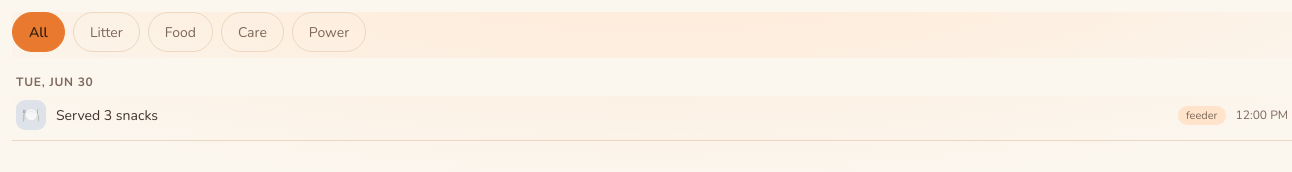
HistoryView › filter chip refetches with the device filter and resets the list
Expected: the text "Served 3 snacks" is shown, x1=56 y1=106 x2=158 y2=124
Click the button "Litter". click: (106, 32)
box: x1=73 y1=12 x2=140 y2=52
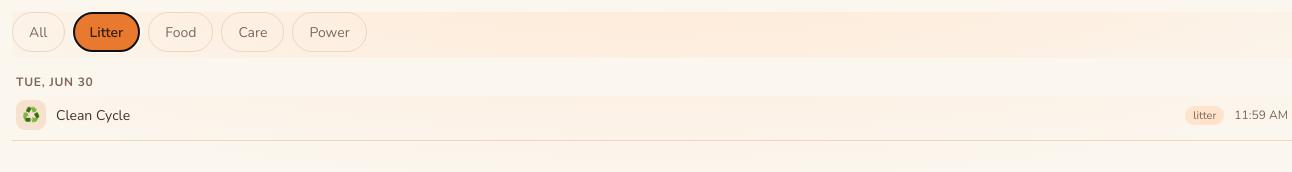
Result: the text "Clean Cycle" is shown at x1=56 y1=106 x2=130 y2=124
Result: the text "Served 3 snacks" is gone
